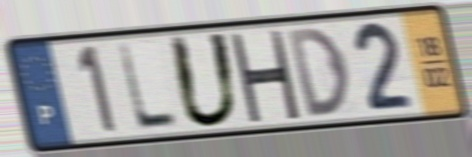1: (75, 42, 122, 137)
2: (350, 18, 420, 116)
D: (284, 24, 353, 121)
H: (226, 29, 303, 123)
L: (115, 41, 182, 133)
U: (165, 30, 243, 132)
